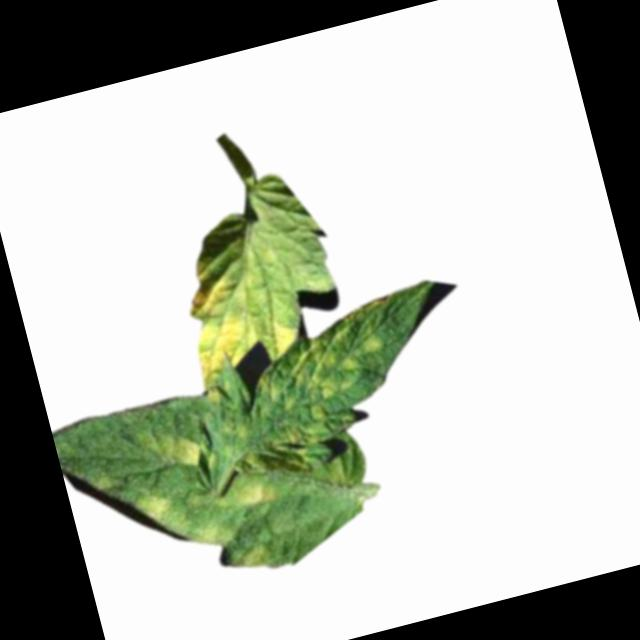Leaf_Mold: (234, 295, 414, 454), (167, 243, 306, 388), (141, 419, 208, 481), (134, 483, 189, 544), (220, 472, 278, 515), (226, 534, 277, 578), (202, 383, 224, 402)
